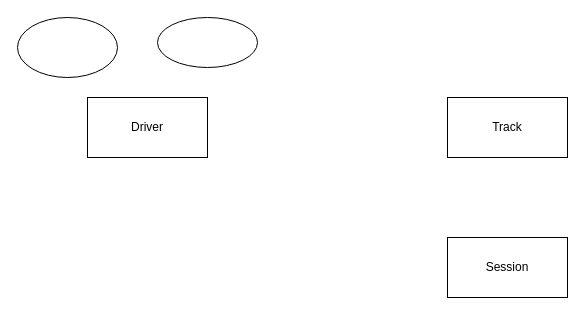
Image size: 585x315. Some labels were removed from this diagram. Here are the shapes that lost their labels. From the top down, the centre of each, then its label:
point (67, 47): DriverID
point (207, 42): Category
